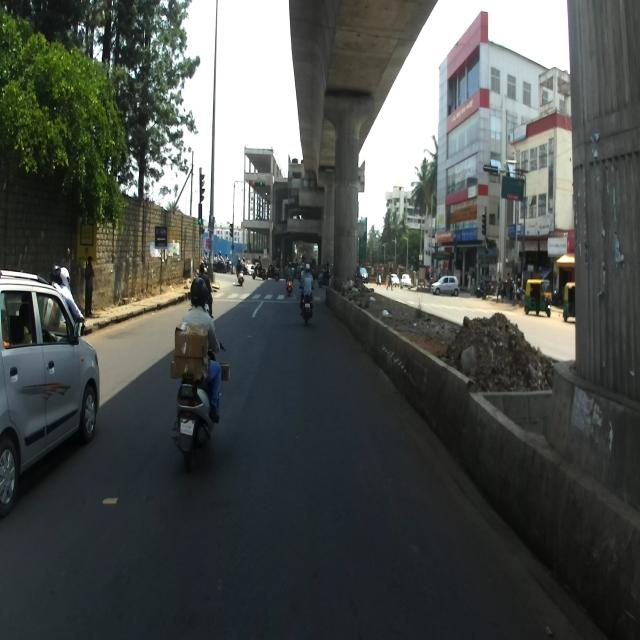Car_Maruti-Suzuki: (0, 267, 100, 517)
scooter: (170, 323, 226, 474)
